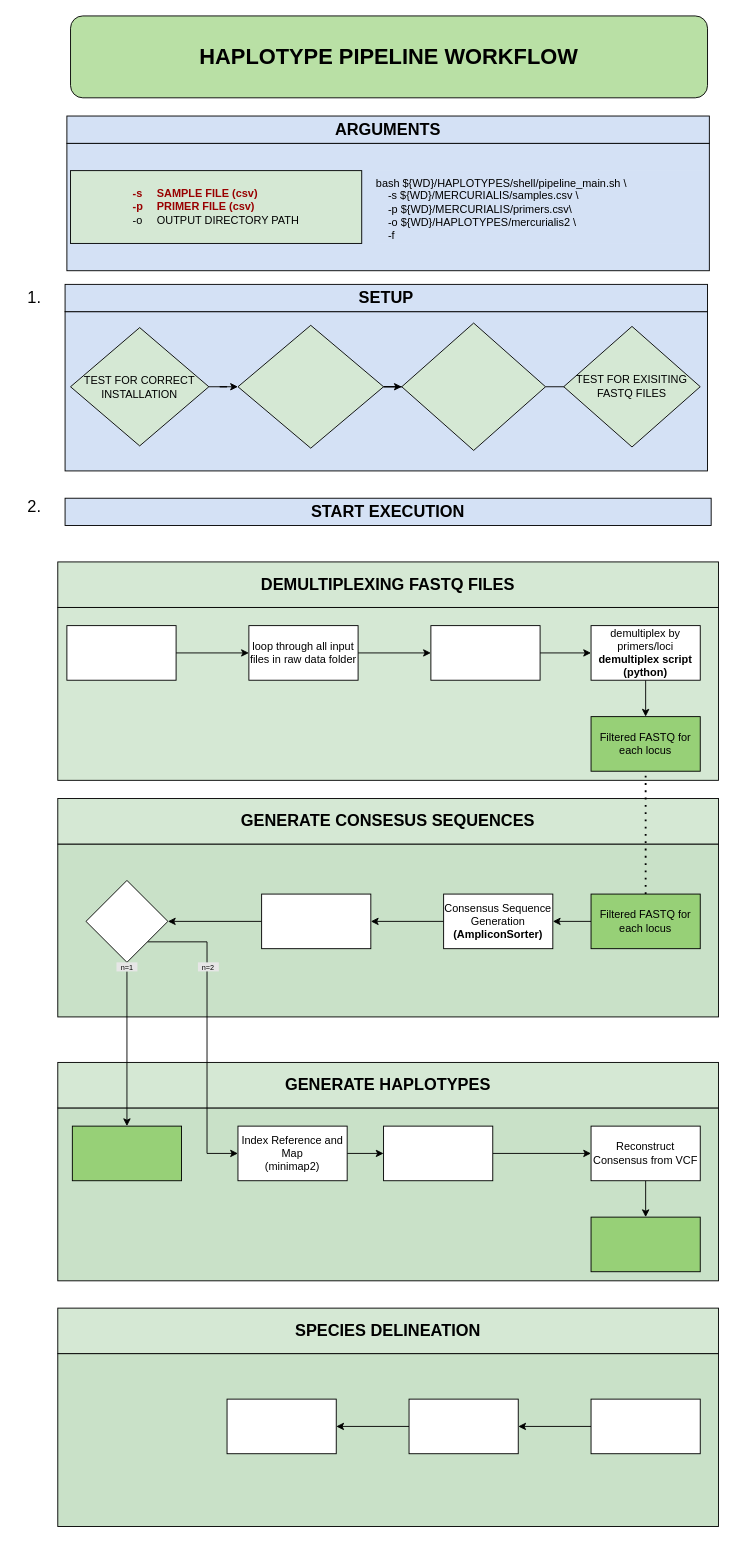
The diagram is 734 pixels wide and 1542 high, and some of its shapes have lost their labels. The shapes that lost their labels are listed below. From the top down, each one's centre as x and y in pixels, then its label:
pixel 310 386: INITIATE CONDA
pixel 473 386: TEST FOR CORRECT ARGUMENTS
pixel 121 652: copy raw data to new output folder
pixel 485 652: filter raw sequences with nanofilt
pixel 126 921: Check Ploidy
pixel 316 921: Indexing Consensus Sequences ( Python )
pixel 126 1153: single haplotype file (.fasta)
pixel 438 1153: Variant Calling with NanoCaller
pixel 645 1244: multiple haplotype files (.fasta)
pixel 645 1426: ASAP (Assemble SPecies by Automatic Partitioning)
